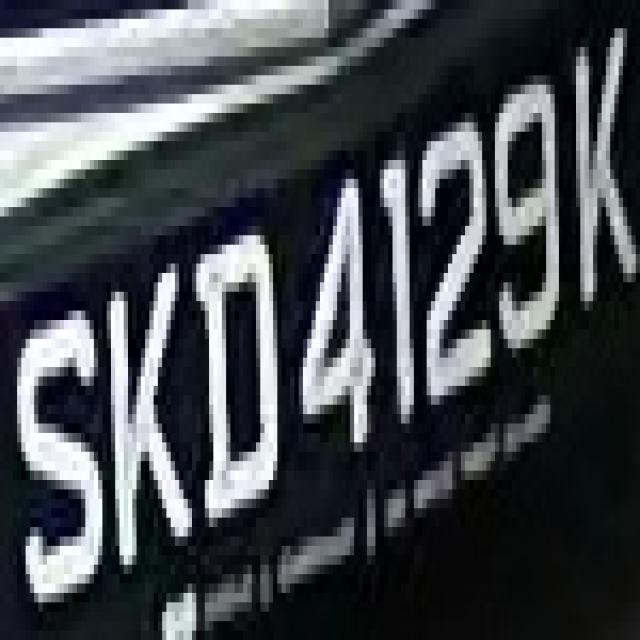1: (367, 132, 427, 452)
2: (414, 94, 499, 414)
4: (273, 160, 380, 461)
9: (487, 94, 568, 358)
D: (184, 217, 290, 527)
K: (98, 226, 192, 593), (559, 9, 640, 330)
S: (8, 273, 106, 631)
